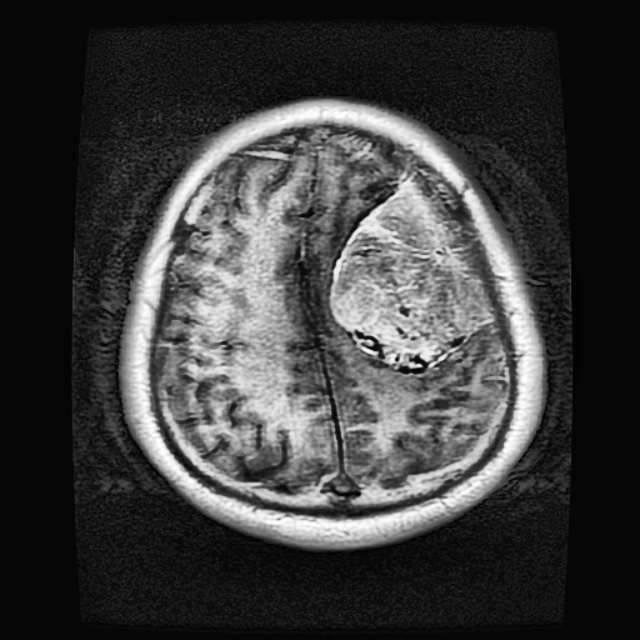Pituitary: (332, 172, 494, 370)
